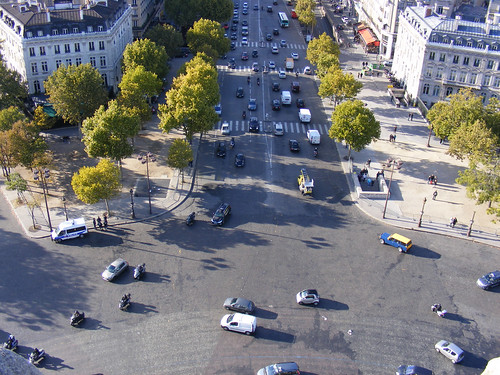building: (1, 5, 134, 109), (385, 4, 500, 102)
car: (432, 333, 467, 366), (51, 218, 92, 245), (214, 312, 259, 336), (210, 200, 238, 232), (99, 256, 131, 282), (380, 232, 413, 253), (295, 168, 316, 198), (219, 297, 256, 314), (297, 283, 320, 309), (476, 269, 500, 289), (232, 148, 247, 170)
sidewalk: (324, 59, 498, 242), (4, 120, 187, 226)
street: (4, 226, 500, 375), (194, 1, 326, 227)
tree: (435, 94, 500, 227), (156, 84, 223, 159), (68, 162, 134, 224), (45, 64, 108, 126), (82, 105, 139, 166), (329, 97, 382, 158), (176, 50, 226, 104), (1, 108, 46, 164), (116, 65, 160, 116), (116, 42, 170, 81), (184, 17, 233, 56), (303, 33, 343, 70), (322, 67, 362, 104), (296, 1, 317, 32)
